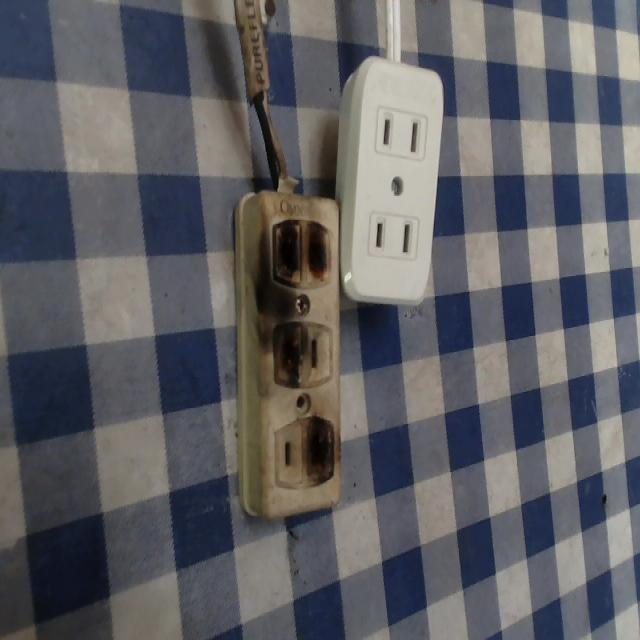-: (264, 204, 333, 297), (263, 309, 311, 399), (302, 407, 342, 489)
